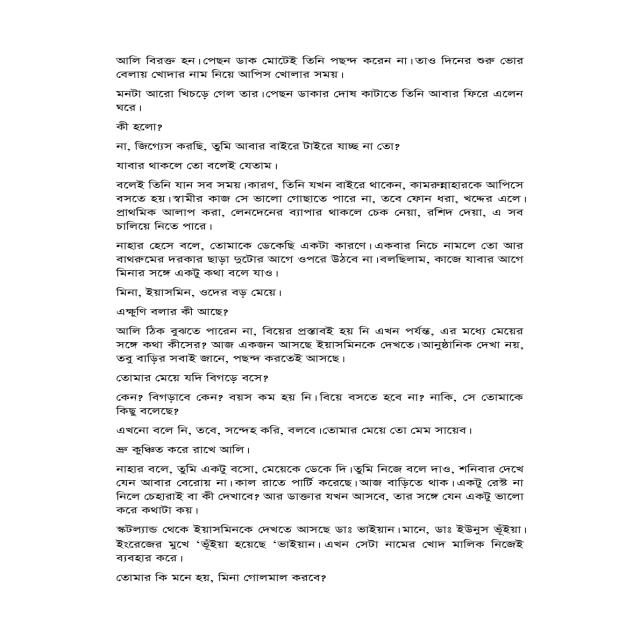paragraph: (110, 461, 527, 517), (113, 177, 523, 232), (117, 521, 527, 565), (115, 323, 522, 366), (111, 239, 526, 280), (113, 389, 525, 419), (115, 52, 522, 81), (118, 86, 520, 114), (111, 422, 476, 437), (109, 139, 407, 154), (112, 570, 331, 586), (112, 285, 282, 299), (114, 159, 283, 172), (112, 370, 267, 384), (110, 443, 250, 456), (112, 305, 232, 318), (111, 119, 165, 133)
